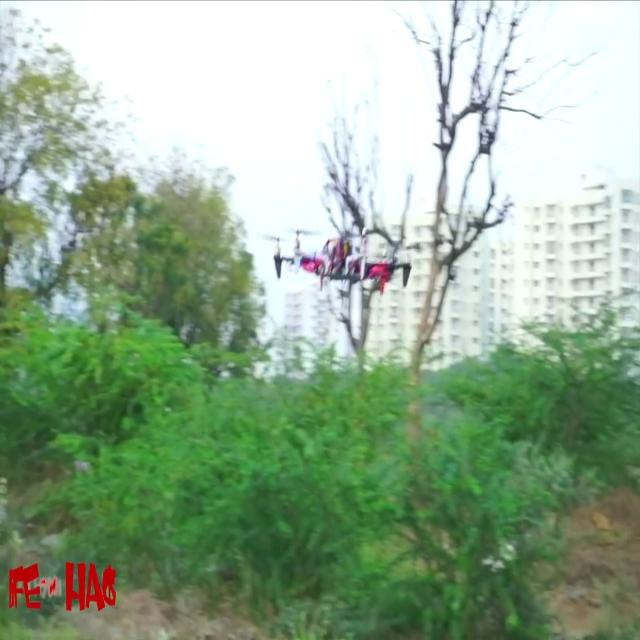drone: (242, 215, 432, 326)
